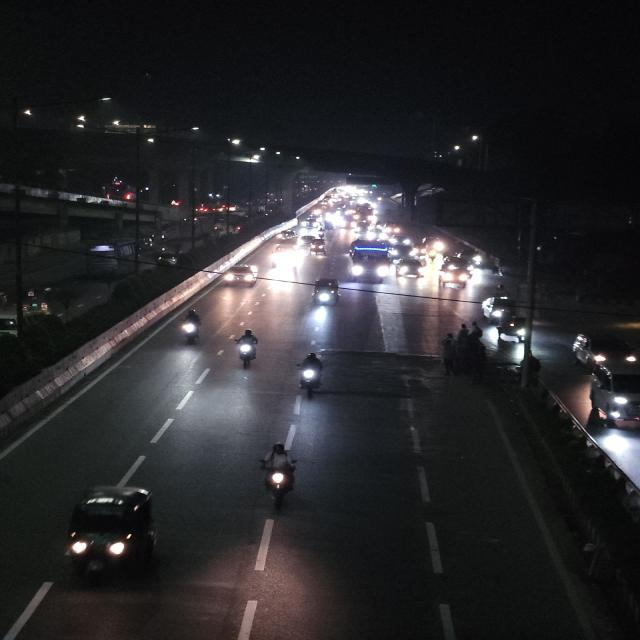bus: (345, 238, 393, 284)
car: (582, 362, 640, 432), (571, 330, 639, 372), (437, 256, 476, 286), (89, 242, 116, 281), (222, 263, 261, 289), (394, 256, 427, 280), (278, 228, 300, 244)
cng: (45, 482, 176, 590), (478, 295, 518, 327), (308, 277, 343, 309), (496, 315, 536, 343), (19, 286, 56, 314), (308, 237, 329, 260), (154, 251, 180, 267)
motorcycle: (252, 439, 302, 511), (290, 348, 330, 400), (231, 326, 263, 369), (176, 307, 206, 347), (486, 262, 503, 278)
pedestrian: (435, 331, 462, 376)
truck: (437, 256, 476, 286)
